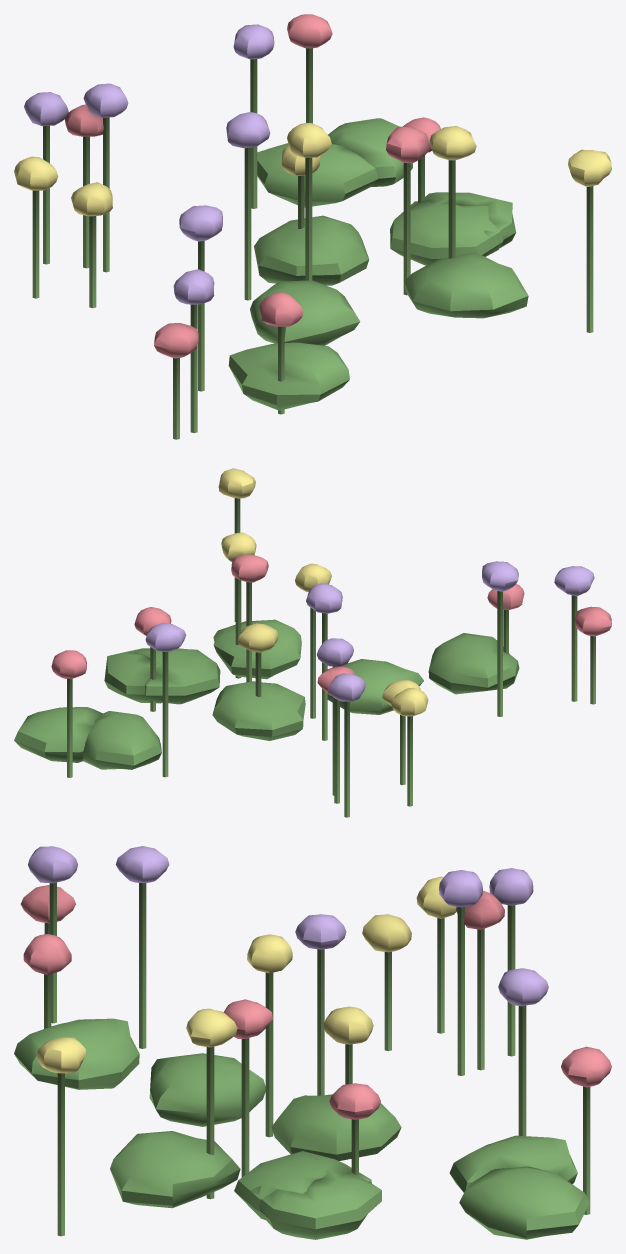
Rendered from flowers.glb.
3 views of the same model, one above another, from view 1: azimuth 30°, elevation 25°; view 2: azimuth 150°, elevation 25°; view 3: azimuth 270°, elevation 25° (orthographic). The views are drawn at different scales.
Parts seen in each view (by area): view 1: boat_leafA, boat_leafB, boat_petal3, boat_petal2, boat_petal1; view 2: boat_leafA, boat_leafB, boat_petal3, boat_petal2, boat_petal1; view 3: boat_leafA, boat_leafB, boat_petal3, boat_petal2, boat_petal1.
Part boxes in pixels (x1,y1,x2,y2): boat_leafA: [228, 118, 528, 410]; boat_leafB: [32, 48, 593, 439]; boat_petal3: [24, 24, 274, 304]; boat_petal2: [14, 123, 611, 216]; boat_petal1: [64, 14, 440, 358]; boat_leafA: [14, 619, 519, 769]; boat_leafB: [67, 498, 595, 817]; boat_petal3: [145, 561, 594, 701]; boat_petal2: [218, 468, 428, 716]; boat_petal1: [51, 554, 611, 695]; boat_leafA: [14, 1018, 589, 1239]; boat_leafB: [44, 882, 590, 1236]; boat_petal3: [28, 846, 548, 1006]; boat_petal2: [36, 876, 456, 1073]; boat_petal1: [20, 885, 611, 1119].
Bounding box in the file's own units: 1.71 × 0.6366 × 1.68.
